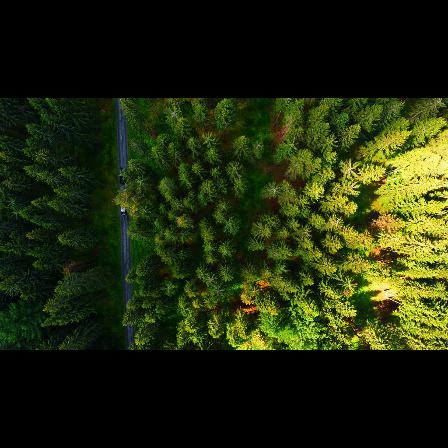Sick: (265, 181, 283, 198), (165, 105, 183, 121), (327, 215, 346, 229), (296, 225, 312, 240), (204, 272, 217, 289), (251, 138, 265, 153), (7, 195, 19, 208)
